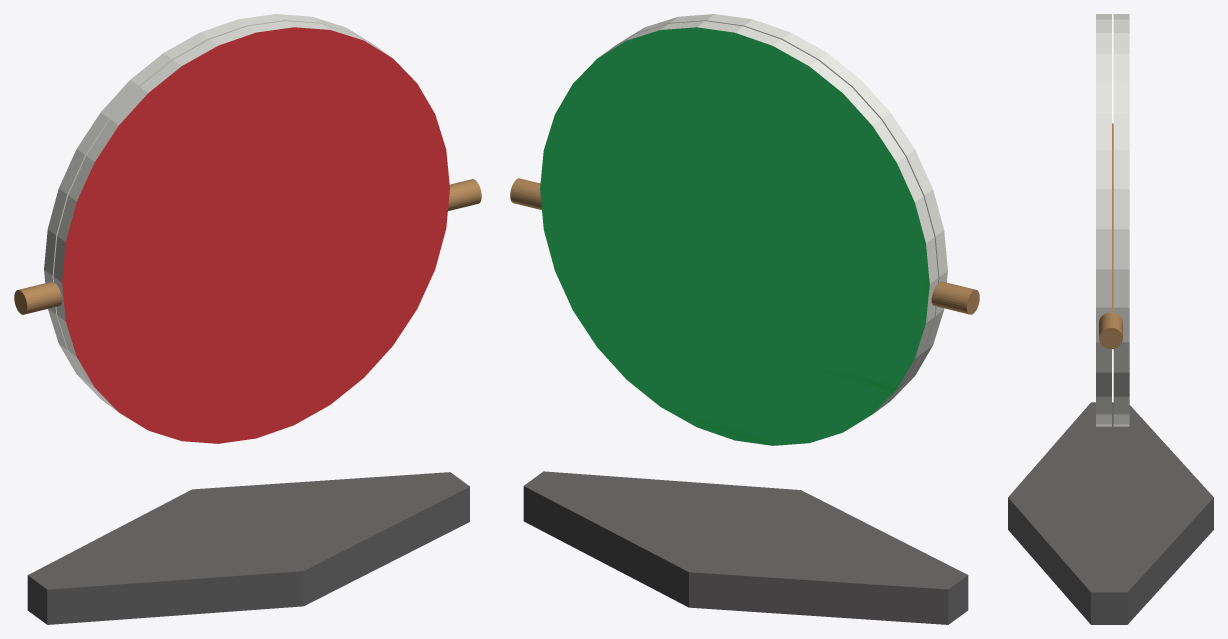
The model's file is testTarget 1.fbx.
The picture shows the model from 3 angles, left to right: view 1: azimuth 30°, elevation 25°; view 2: azimuth 150°, elevation 25°; view 3: azimuth 270°, elevation 25°; orthographic projection. The views are drawn at different scales.
Visible parts, largest first — view 1: Sign, Cube, Letter, Stick; view 2: Letter, Cube, Sign, Stick; view 3: Cube, Letter, Sign, Stick.
Part boxes in pixels (left/top/right/bottom): Sign: left=53, top=21, right=449, bottom=443; Cube: left=27, top=472, right=469, bottom=624; Letter: left=44, top=14, right=381, bottom=405; Stick: left=14, top=179, right=481, bottom=314; Letter: left=540, top=21, right=938, bottom=445; Cube: left=523, top=471, right=968, bottom=624; Sign: left=607, top=14, right=947, bottom=406; Stick: left=510, top=178, right=979, bottom=314; Cube: left=1008, top=402, right=1213, bottom=624; Letter: left=1113, top=14, right=1129, bottom=426; Sign: left=1096, top=14, right=1111, bottom=426; Stick: left=1099, top=123, right=1122, bottom=348.
Size of the model in its own units: 470 by 533 by 200.
Materials: 6 (2 with a texture image).
